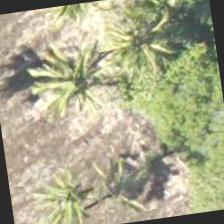Kelapa_Sawit: (29, 33, 131, 135), (84, 0, 187, 92), (77, 147, 178, 223), (21, 159, 121, 223)
